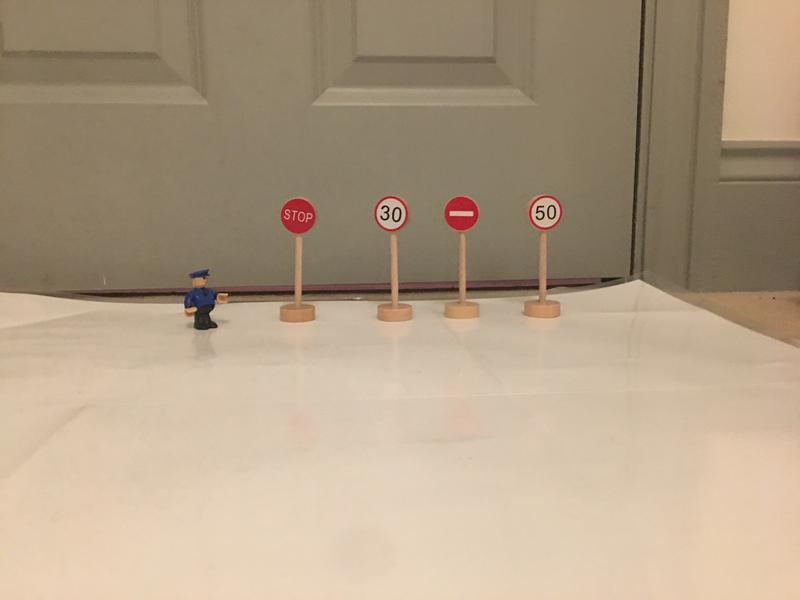Traffic_Sign_30: (375, 195, 408, 233)
Traffic_Sign_50: (530, 196, 562, 230)
Traffic_Sign_No_Entry: (443, 195, 481, 231)
Traffic_Sign_Stop: (280, 198, 317, 235)
person: (183, 269, 229, 329)
